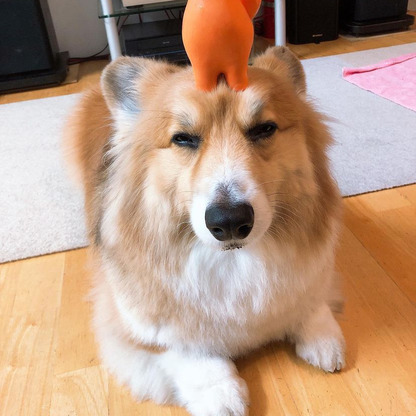Corgi: (79, 55, 369, 410)
